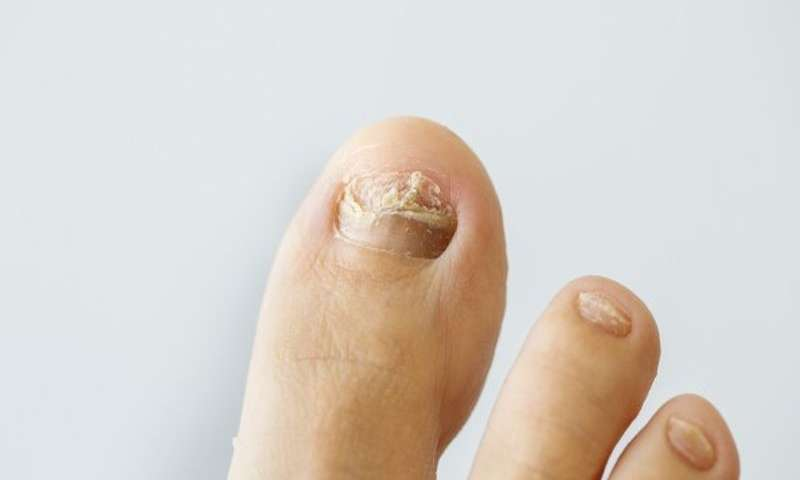Nail Fungal Infection: (323, 161, 466, 230)
